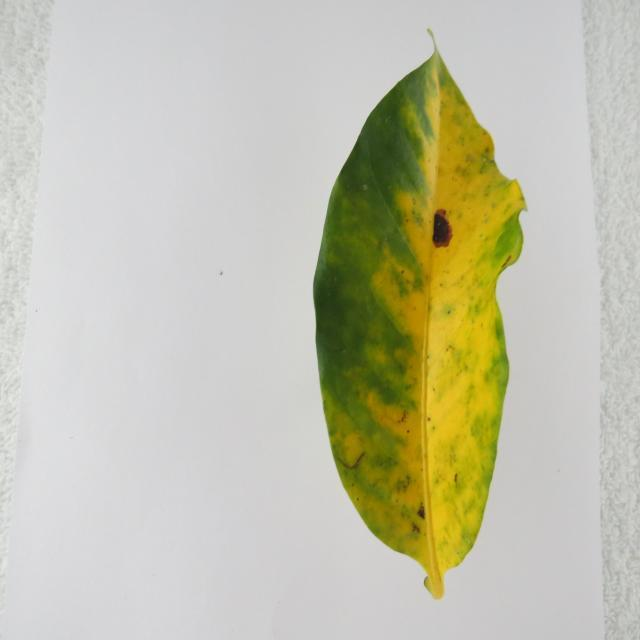DeficienciaNutricional-Nitrogeno: (314, 47, 526, 598)
